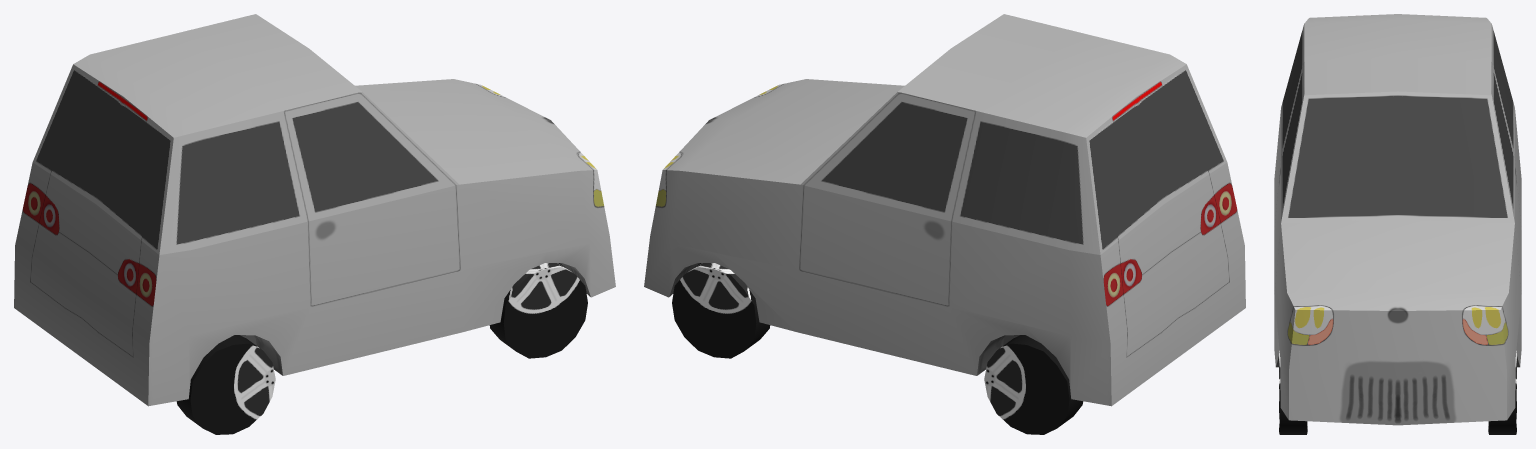
3 views of the same model, side by side, from view 1: azimuth 30°, elevation 25°; view 2: azimuth 150°, elevation 25°; view 3: azimuth 270°, elevation 25° (orthographic). The views are drawn at different scales.
Parts seen in each view (by area): view 1: Car #lod0; view 2: Car #lod0; view 3: Car #lod0.
Boxes of the visible parts, x1,y1,x2,y2 form: Car #lod0: (14, 14, 615, 434); Car #lod0: (644, 14, 1245, 434); Car #lod0: (1274, 14, 1521, 434).
Bounding box in the file's own units: 340 × 170 × 202.
